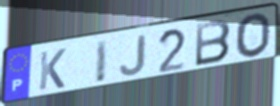2: (156, 27, 190, 75)
B: (194, 18, 233, 68)
I: (94, 37, 111, 85)
J: (118, 33, 148, 77)
K: (37, 47, 68, 92)
O: (234, 12, 273, 61)
